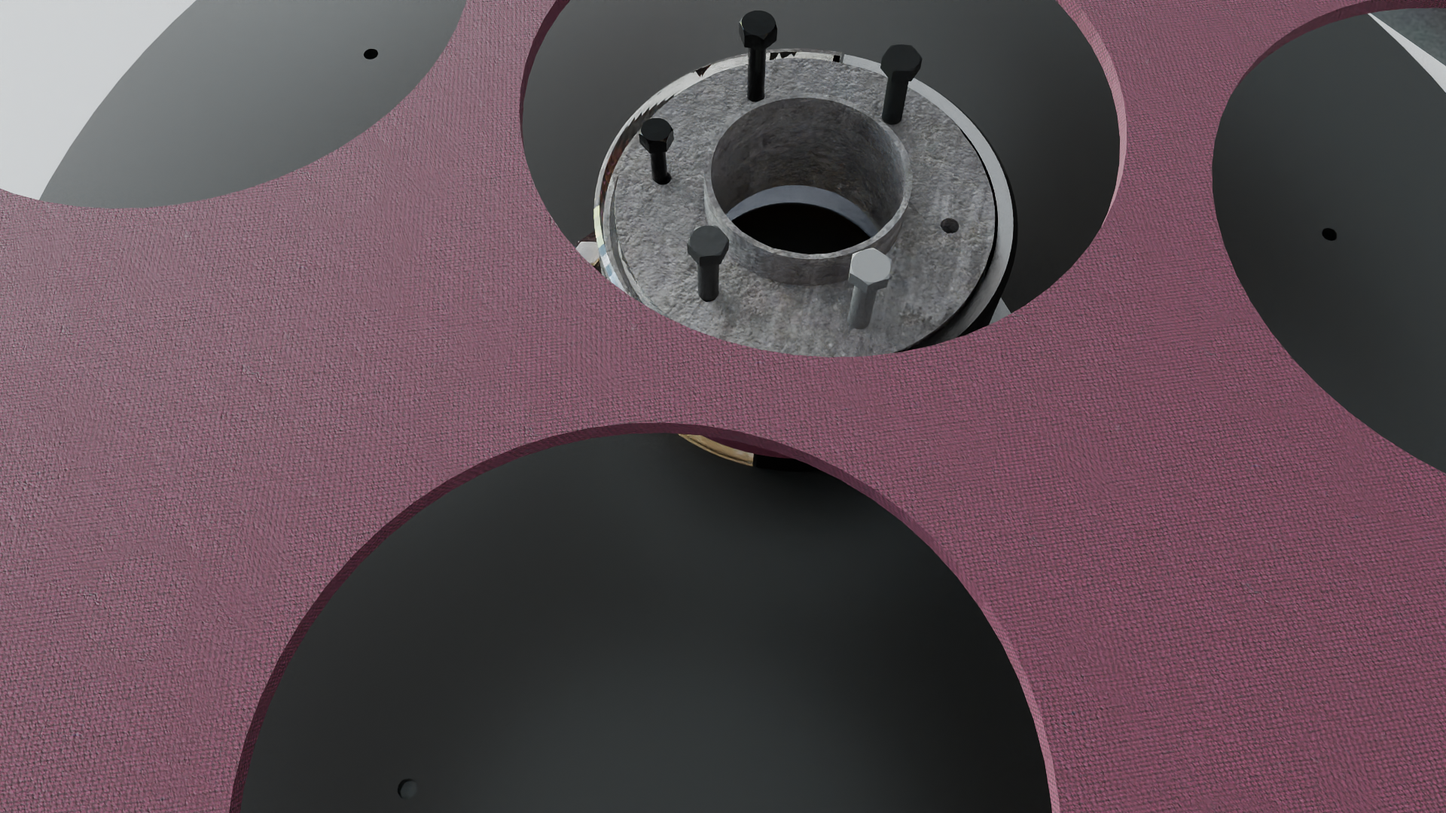bolt: (850, 248, 892, 285), (687, 225, 729, 257), (882, 44, 923, 72), (740, 11, 777, 40), (639, 118, 673, 145)
